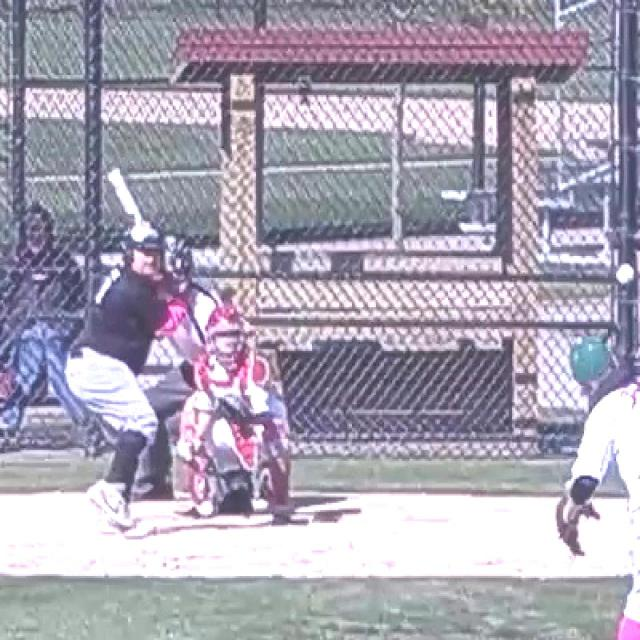baseball: (616, 265, 634, 283)
